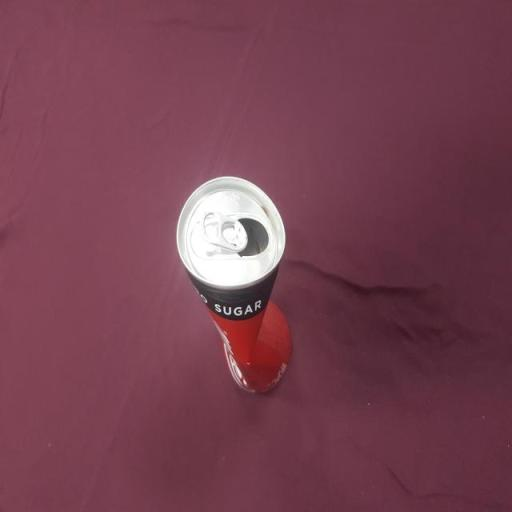metal: (166, 155, 316, 423)
